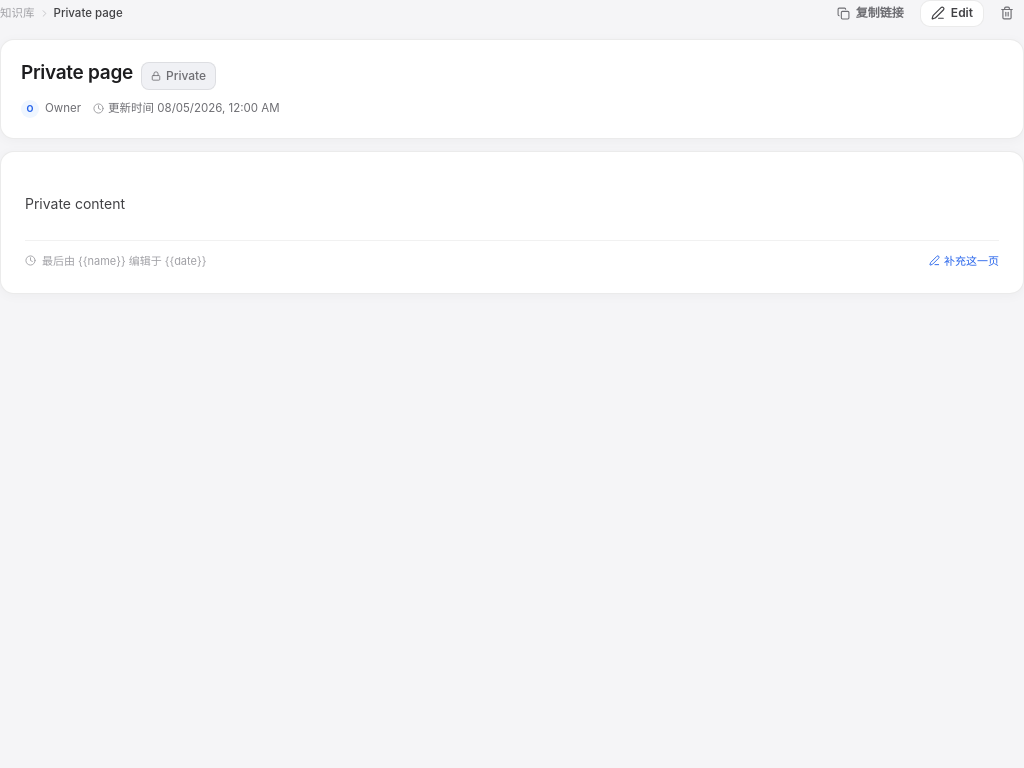
Test: WikiDetailPage › shows edit controls to an admin for a page owned by another user
The width and height of the screenshot is (1024, 768).
Click the button "Edit" at (952, 13), box [920, 0, 984, 27]
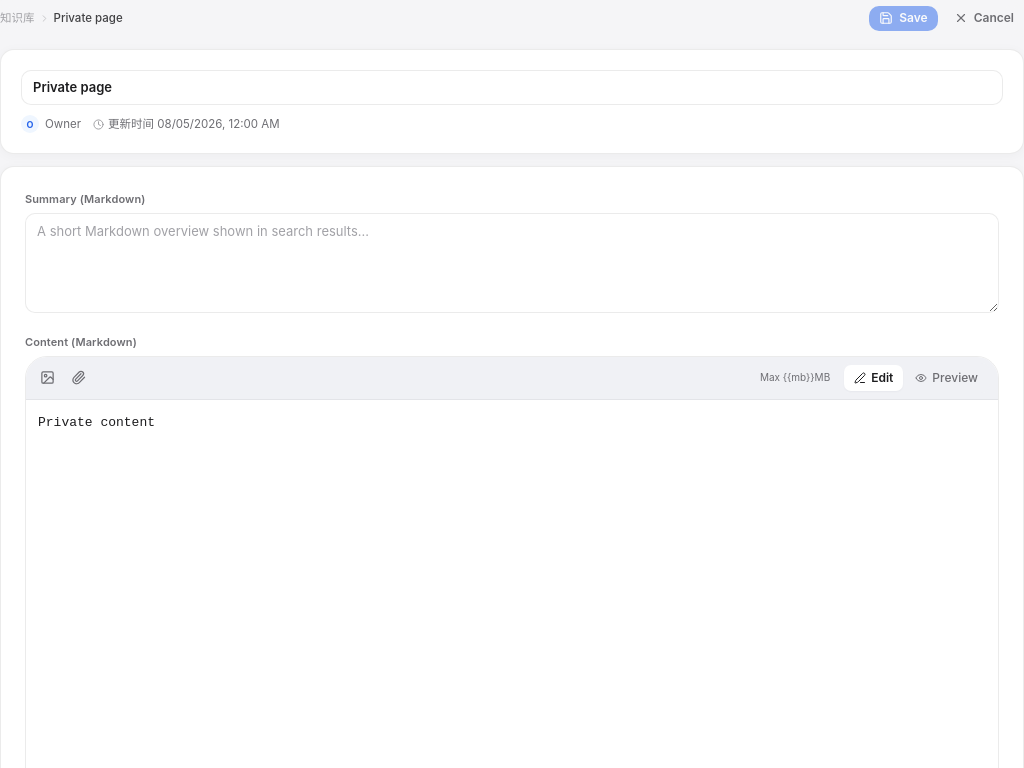
Expected: the button "Save" is shown, [869, 6, 938, 31]
